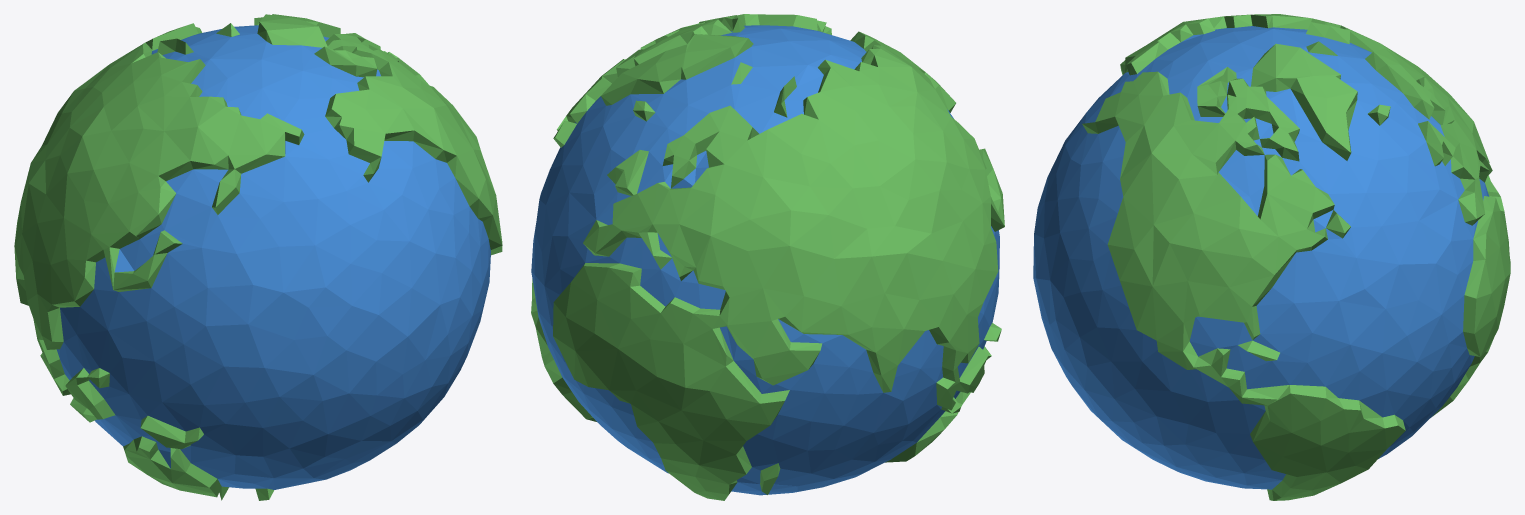
The model's file is Earth.fbx.
The picture shows the model from 3 angles, left to right: view 1: azimuth 30°, elevation 25°; view 2: azimuth 150°, elevation 25°; view 3: azimuth 270°, elevation 25°; orthographic projection.
Parts seen in each view (by area): view 1: Earth; view 2: Earth; view 3: Earth.
Boxes of the visible parts, x1,y1,x2,y2 form: Earth: [14, 14, 502, 500]; Earth: [531, 14, 1004, 500]; Earth: [1033, 14, 1510, 500].
Bounding box in the file's own units: 34.37 × 34.08 × 33.61.
1 material, 1 textured.
